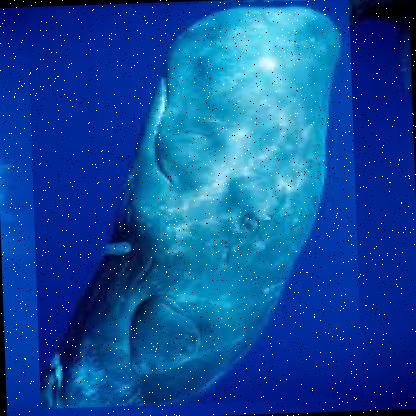sperm_whale: (27, 0, 365, 409)
